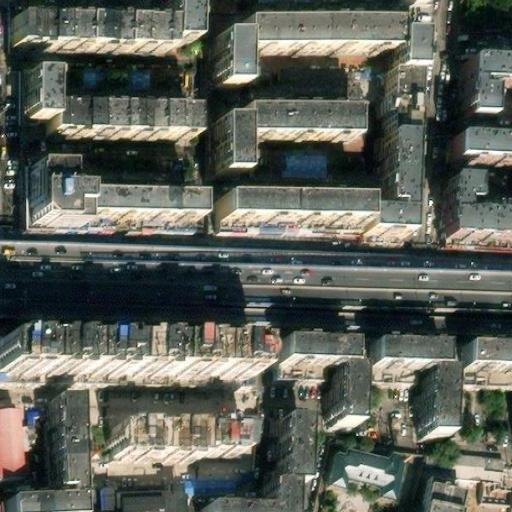building: (194, 407, 302, 512), (0, 344, 238, 383), (3, 389, 75, 512), (355, 342, 434, 435), (263, 343, 345, 424), (445, 345, 512, 444), (9, 16, 164, 50), (105, 409, 240, 448), (239, 17, 387, 51), (436, 177, 512, 243), (49, 103, 191, 138), (212, 201, 358, 235), (357, 136, 406, 236), (454, 58, 512, 124), (327, 457, 400, 509), (73, 200, 192, 227), (237, 108, 349, 136), (26, 172, 73, 236), (0, 405, 30, 482), (445, 135, 512, 167), (379, 76, 412, 137), (112, 480, 163, 512), (214, 29, 239, 86), (214, 120, 237, 176), (22, 79, 50, 124), (385, 33, 413, 77), (472, 483, 512, 512), (421, 475, 461, 500), (417, 492, 457, 512)
